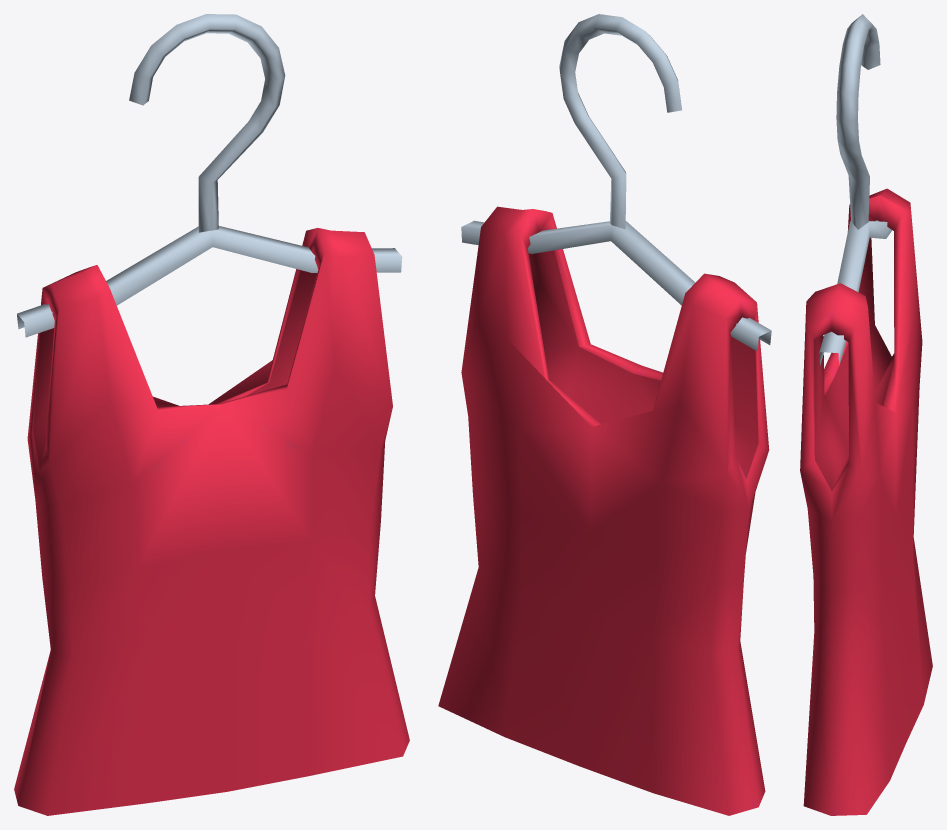
Rendered from DressCleanHang.fbx.
The picture shows the model from 3 angles, left to right: view 1: azimuth 30°, elevation 25°; view 2: azimuth 150°, elevation 25°; view 3: azimuth 270°, elevation 25°; orthographic projection. The views are drawn at different scales.
Parts seen in each view (by area): view 1: DressCleanHang; view 2: DressCleanHang; view 3: DressCleanHang.
Part boxes in pixels (x1,y1,x2,y2): DressCleanHang: (14,14,409,815); DressCleanHang: (438,14,771,815); DressCleanHang: (800,14,932,815).
Bounding box in the file's own units: 72.15 × 148 × 24.88.
